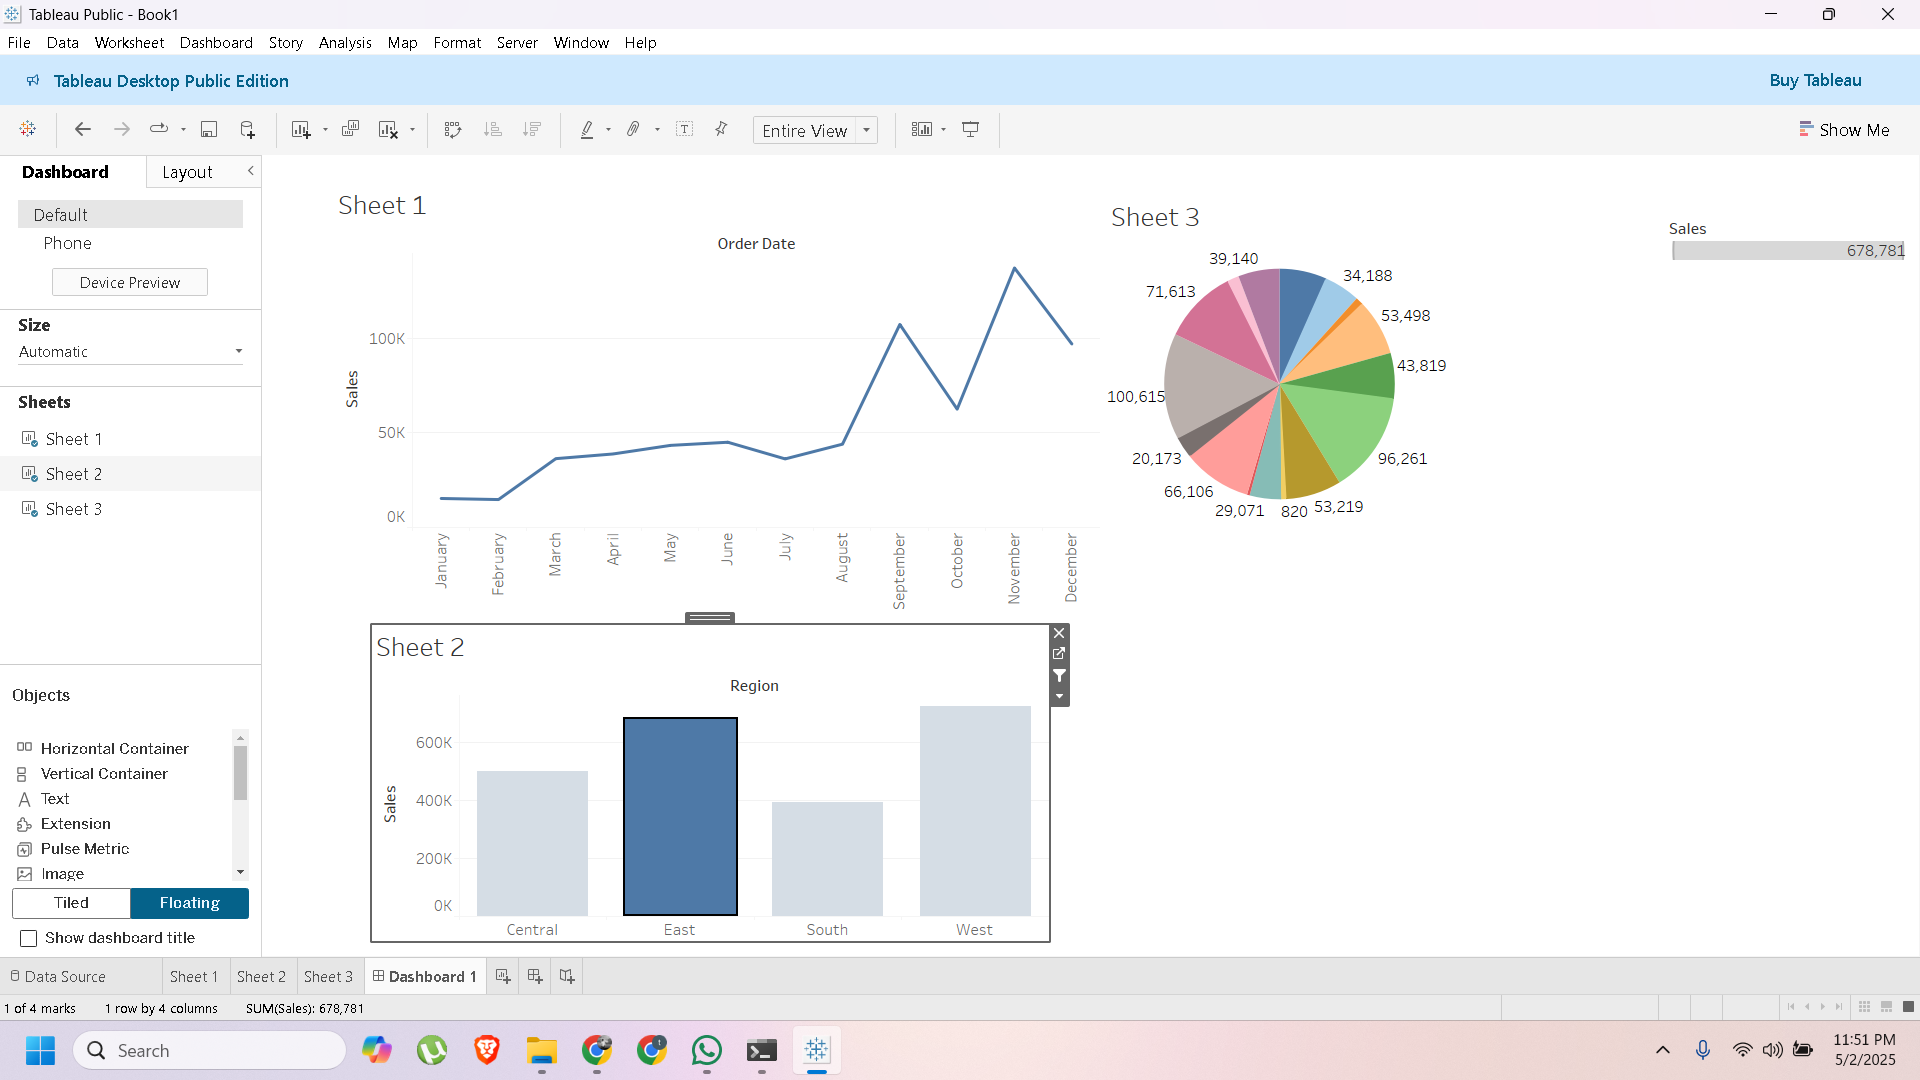

Layout of this report page (visuals, bound fields, positions):
{"tool":"tableau","page":{"name":"Dashboard 1","canvas":[1000,1000],"units":"permille","ordinal":0},"visuals":[{"type":"worksheet","title":"Sheet 1","mark":"Automatic","rows":["Sales"],"cols":["Order Date"],"box":[43.5,35,462.3,554.3]},{"type":"worksheet","title":"Sheet 3","mark":"Pie","box":[510,49.9,320.5,470.7]},{"type":"legend","title":"Sheet 3","param":"[federated.0s47rs51ssgf8y13znfwb18qs4qz].[sum:Sales:qk]","box":[849.1,78.7,145.4,53.7]},{"type":"worksheet","title":"Sheet 2","mark":"Automatic","rows":["Sales"],"cols":["Region"],"box":[66.4,586.8,408.6,394.5]}]}

Visuals, with their boxes on the dashboard's canvas, which has no fixed pixel size, in thousandths of its width and height (x1, y1, x2, y2). These are canvas units, not pixel positions in the 1920x1080 screenshot, which may show the page scaled, cropped or inside an application window:
"Sheet 1" worksheet: (x1=44, y1=35, x2=506, y2=589)
"Sheet 3" worksheet (Pie marks): (x1=510, y1=50, x2=830, y2=521)
"Sheet 3" legend: (x1=849, y1=79, x2=994, y2=132)
"Sheet 2" worksheet: (x1=66, y1=587, x2=475, y2=981)
